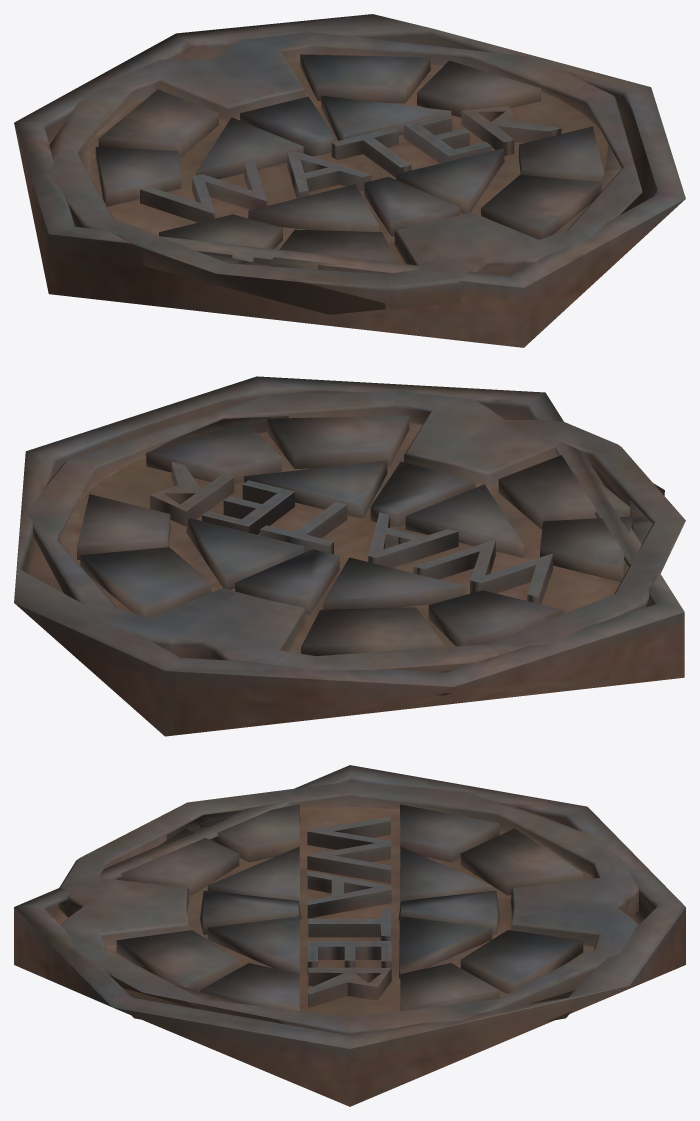
File: manhole.glb
The picture shows the model from 3 angles, top to bottom: view 1: azimuth 30°, elevation 25°; view 2: azimuth 150°, elevation 25°; view 3: azimuth 270°, elevation 25°; orthographic projection. The views are drawn at different scales.
Parts seen in each view (by area): view 1: water_manhole_cover; view 2: water_manhole_cover; view 3: water_manhole_cover.
Boxes of the visible parts, x1,y1,x2,y2 form: water_manhole_cover: [14, 14, 685, 347]; water_manhole_cover: [14, 376, 685, 736]; water_manhole_cover: [14, 765, 685, 1106].
Size of the model in its own units: 0.9 by 0.0881 by 0.9.
Materials: 1 (1 with a texture image).
